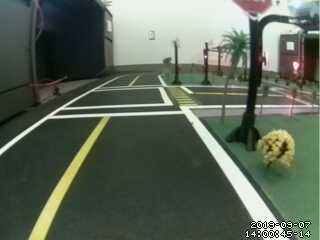Stop_Sign: (234, 1, 279, 21)
